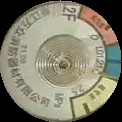green: (100, 44, 122, 82)
red: (78, 4, 120, 44)
yellow: (71, 75, 119, 120)
